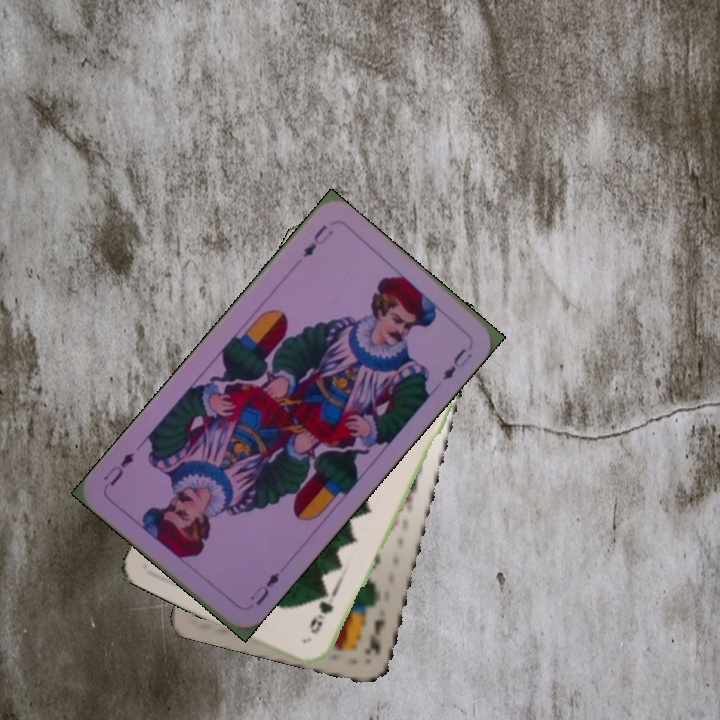EK: (361, 614, 389, 658)
EU: (298, 221, 336, 261), (246, 568, 283, 608)
G9: (305, 597, 336, 637)
